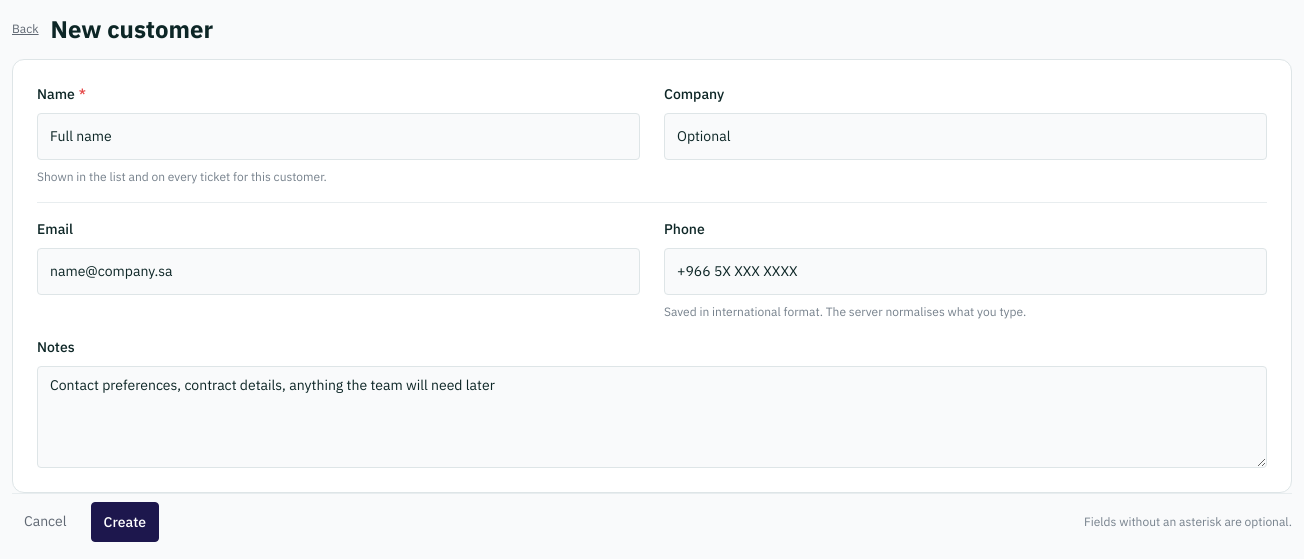
Test: AC-7 — a 400 renders the server’s own message, read as a string › fails when a server message is a raw resource key
Type "Noura Al-Salem" into the field labelled "Name" at (338, 136), box [37, 113, 640, 160]
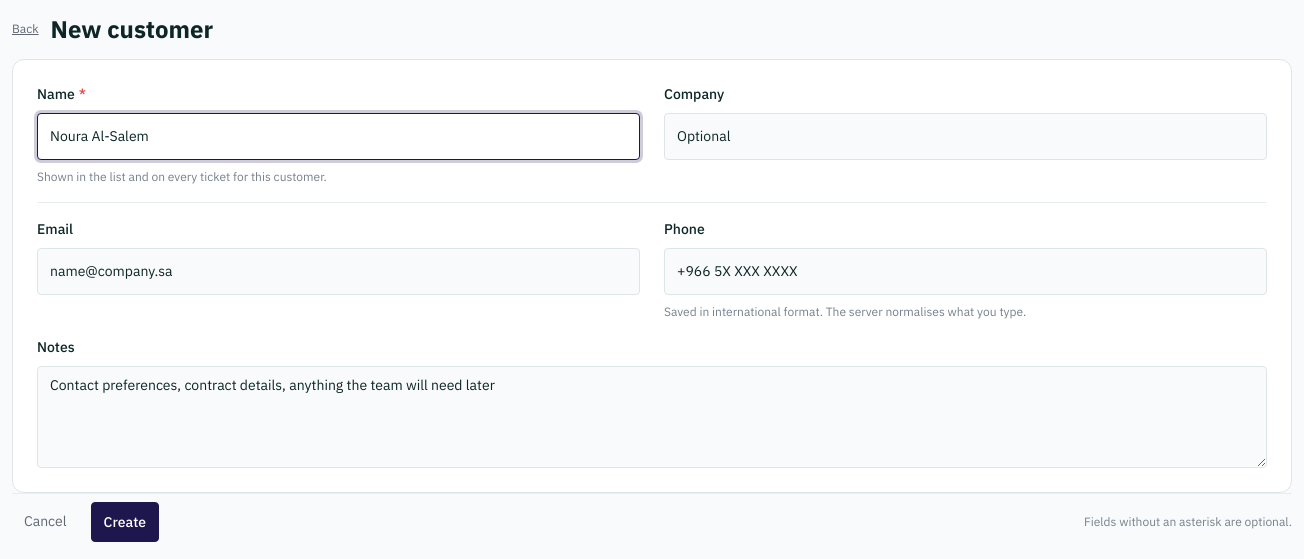
Type "noura@example.com" into the field labelled "Email" at (338, 271), box [37, 248, 640, 295]
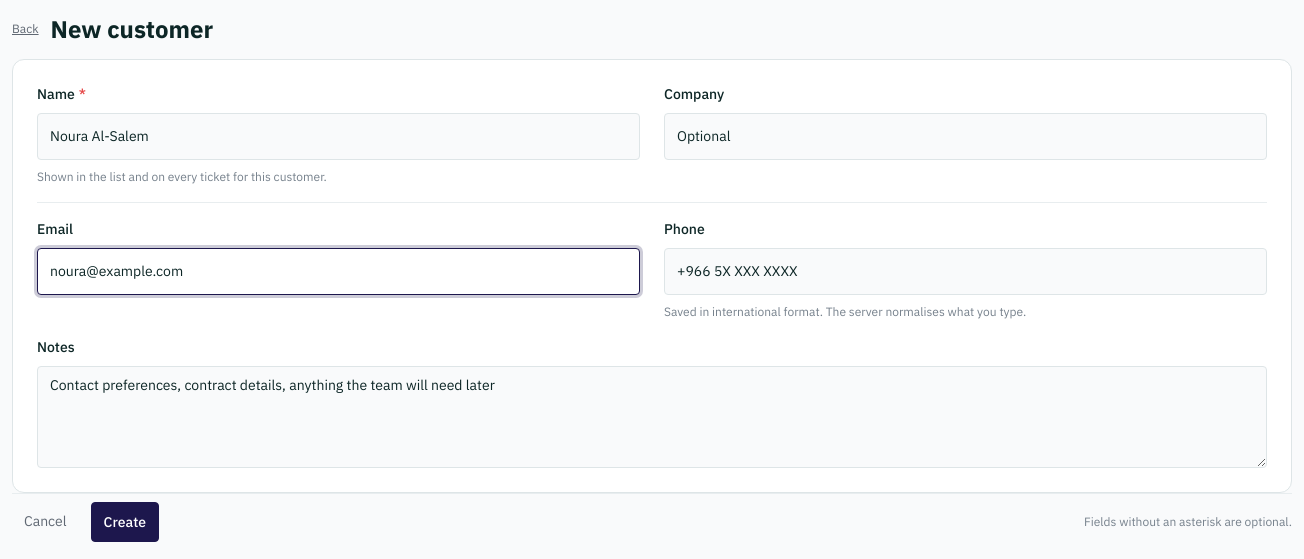
Click the button "Create" at (125, 522), box [91, 502, 159, 542]
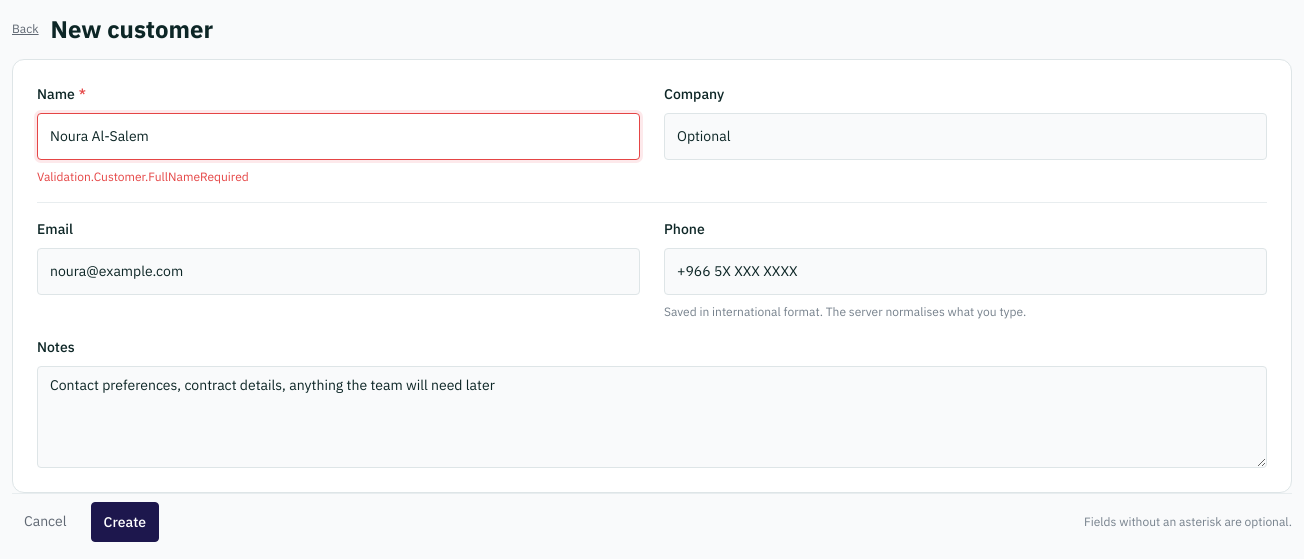
Check: the text "Validation.Customer.FullNameRequired" is shown, box [37, 169, 249, 184]
